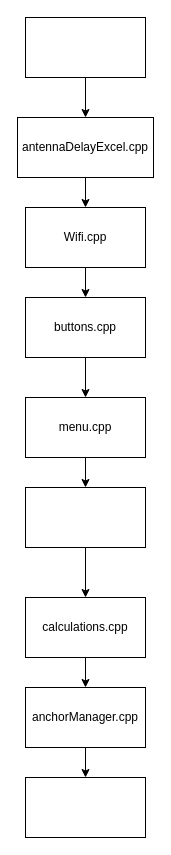
The diagram is 171 pixels wide and 855 high, and some of its shapes have lost their labels. Here are the shapes that lost their labels. From the top down, the box of each, then its label:
(24, 16, 146, 78): main.cpp
(24, 486, 146, 548): i2c.cpp
(24, 776, 146, 838): settings.cpp
